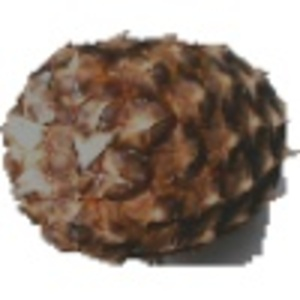abacaxi: (6, 31, 290, 257)
